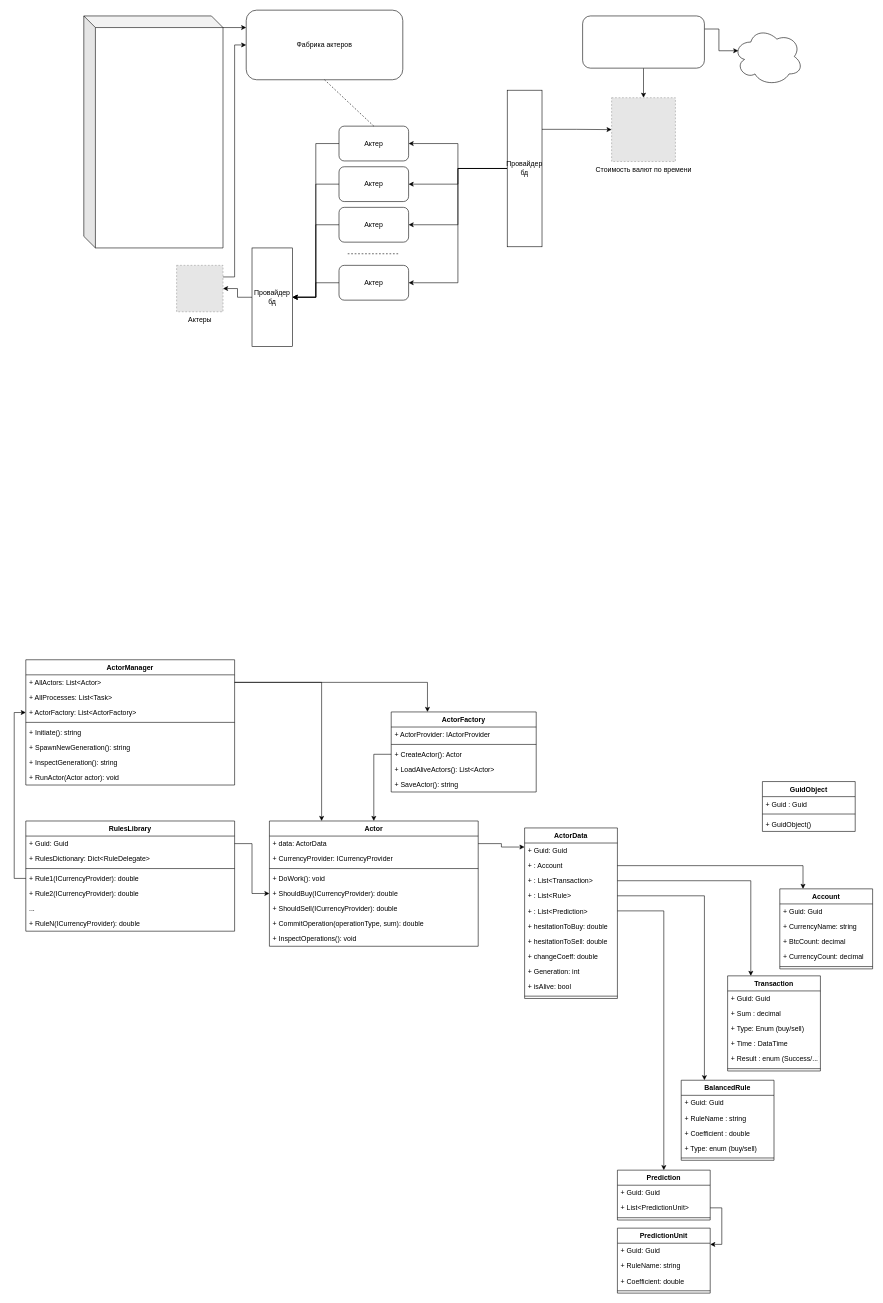
This 883x1303 diagram has some shape labels left out. Grey dashed boxes stand in for pictures. The centre of each missing label's shape, as x and y in pixels:
"Библиотека правил" belongs at point (153, 131).
"Запрос из облака + сохранение в бд" belongs at point (643, 41).
